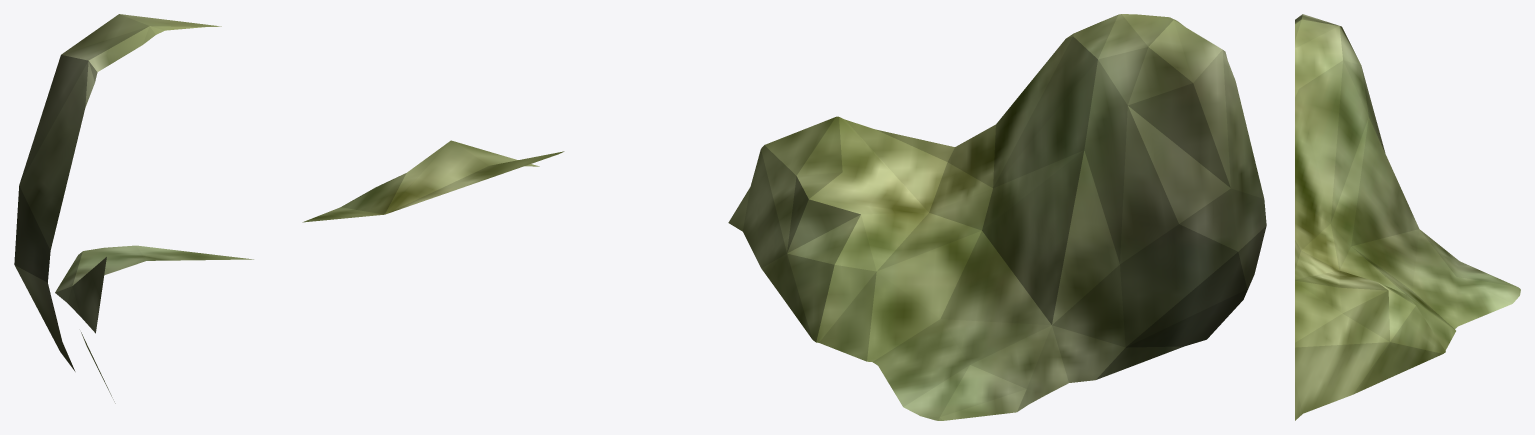
3 views of the same model, side by side, from view 1: azimuth 30°, elevation 25°; view 2: azimuth 150°, elevation 25°; view 3: azimuth 270°, elevation 25° (orthographic). The views are drawn at different scales.
Size of the model in its own units: 0.9532 by 0.5344 by 0.4619.
1 material, 1 textured.
